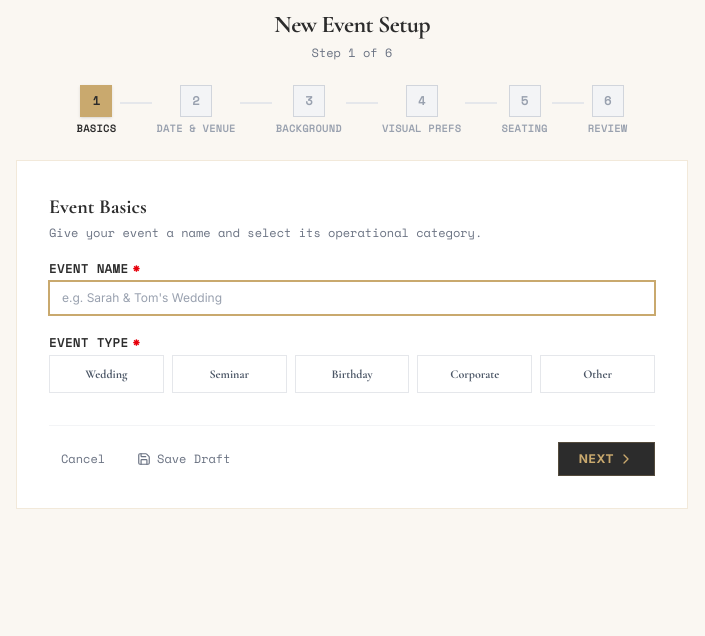
Test: ProjectSetupWizard › proceeds to Step 2 when Step 1 is valid
In the field labelled "Event Name*": (352,298) 49,281 -> 655,315, type "My Test Event"
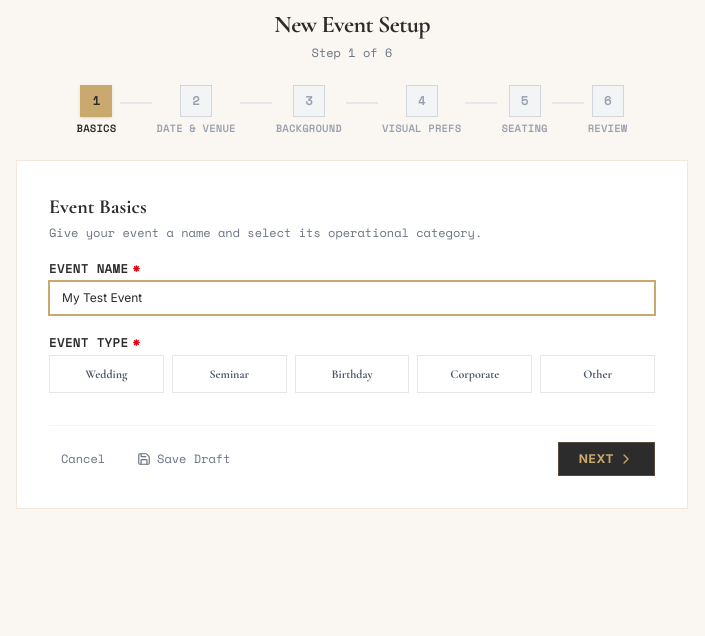
Click the radio button labelled "Wedding": (106,374) 49,355 -> 164,393
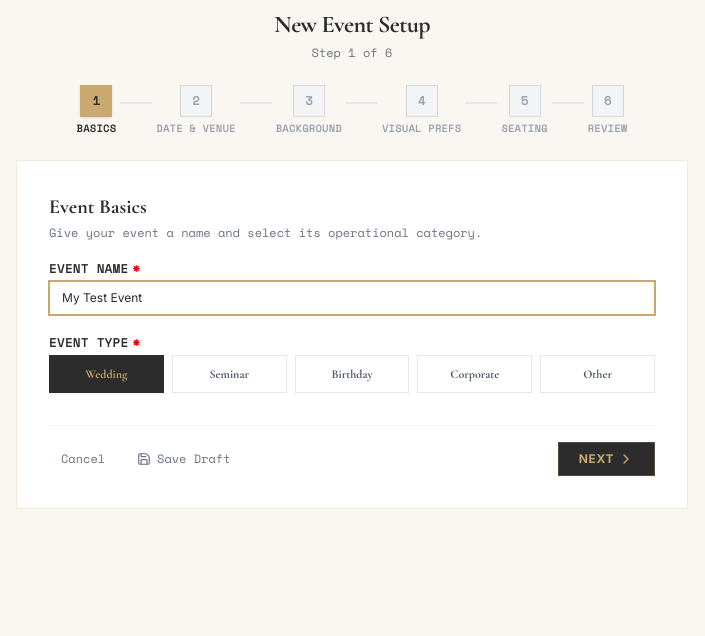
Click the button "Next": (606,459) 558,442 -> 655,476
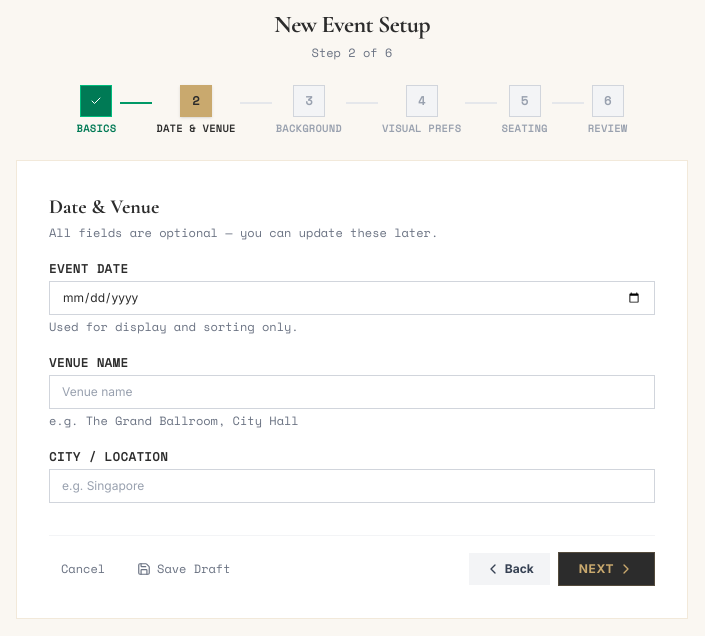
Expected: the heading "Date & Venue" is shown, 49,195 -> 159,219
